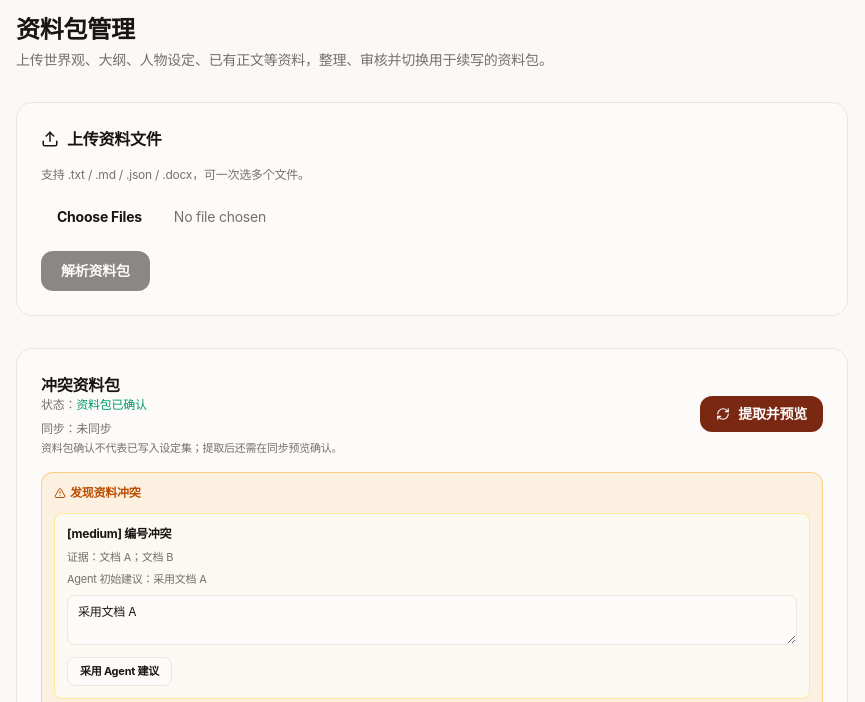
Test case: ContinuationPackView A/B late response › approved pack exposes Agent suggestion and saves an edited conflict resolution
This screenshot has width=865, height=702.
Expected: the text "Agent 初始建议：采用文档 A" is shown, [67,572,207,586]
Replace the text in the text box named "冲突裁决：编号冲突" with "采用文档 B" at (432, 620), box [67,595,797,645]
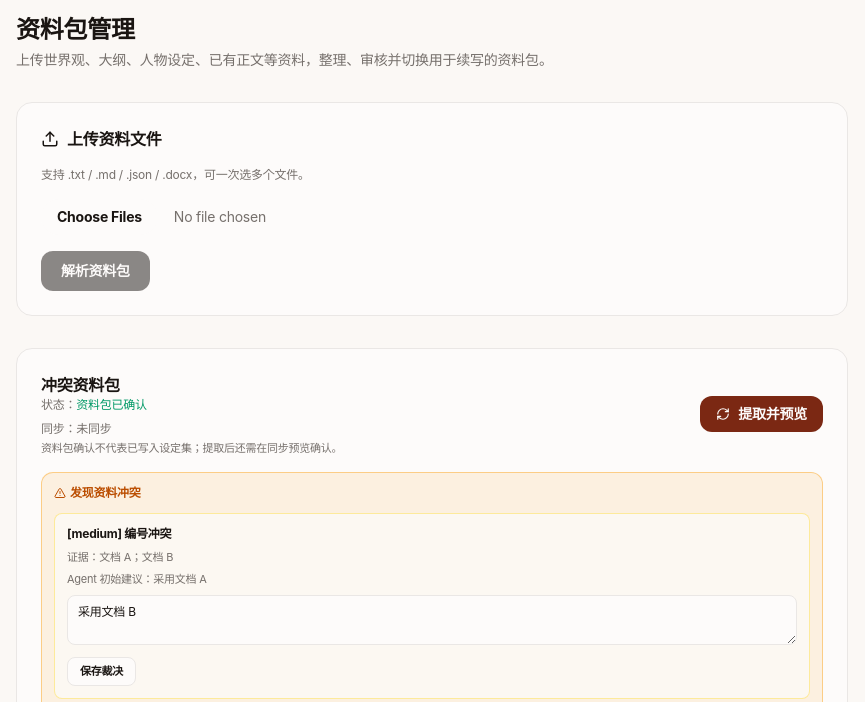
Click the button "保存裁决" at (102, 671), box [67,657,136,686]
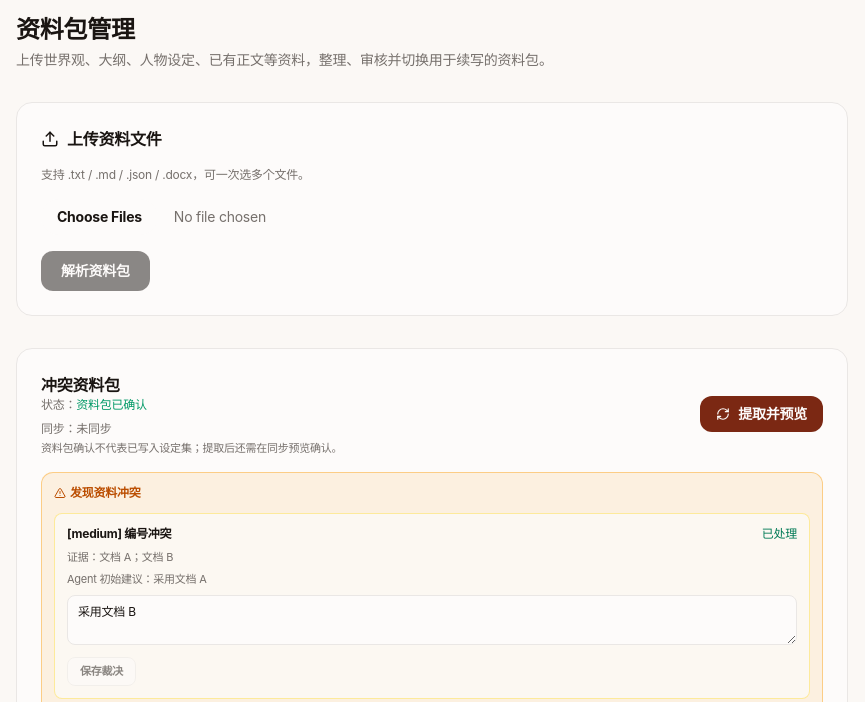
Now the text "已处理" is shown, box [762,526,797,542]
